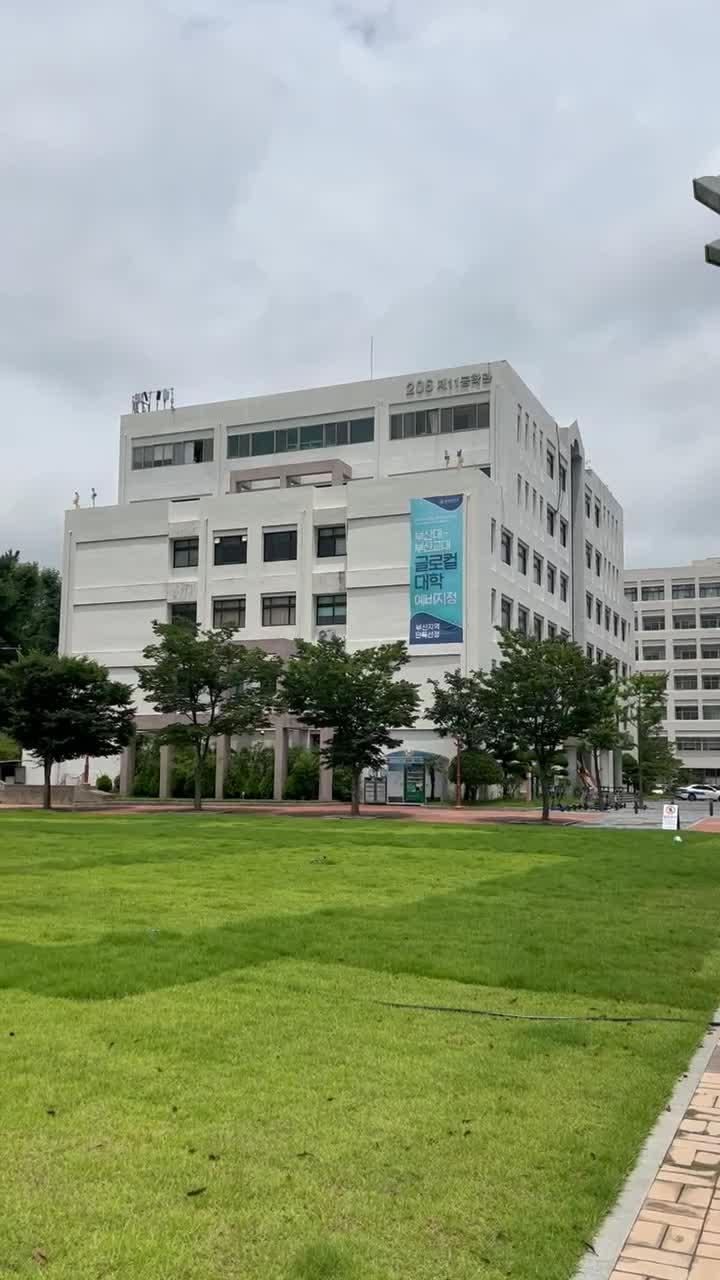building: (72, 354, 650, 644)
